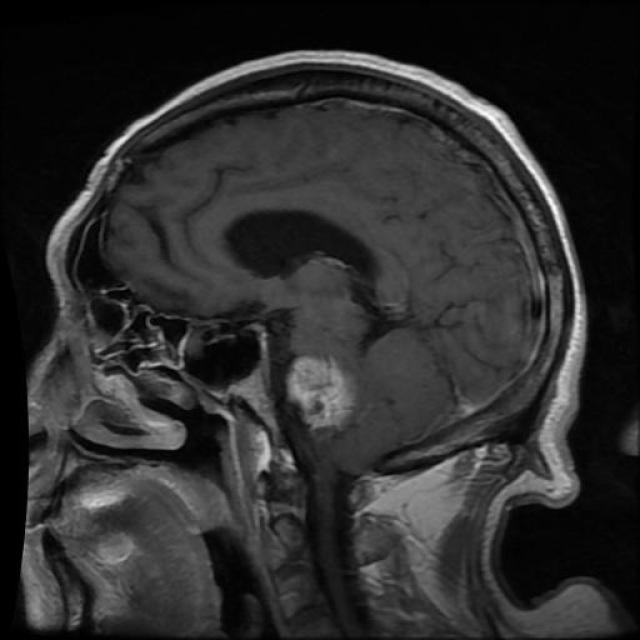meningioma: (289, 356, 350, 430)
